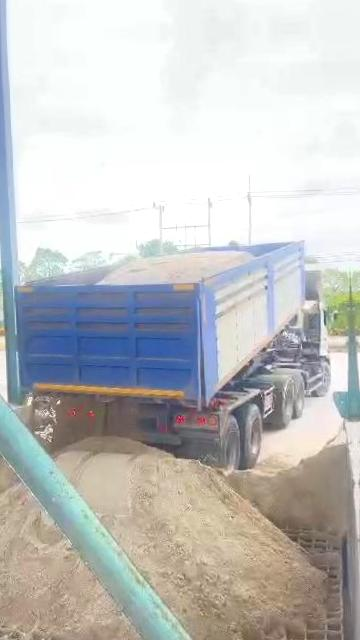sand: (57, 437, 324, 640), (0, 485, 139, 640), (228, 433, 350, 535), (32, 395, 134, 450), (101, 251, 251, 283), (0, 433, 13, 501)
